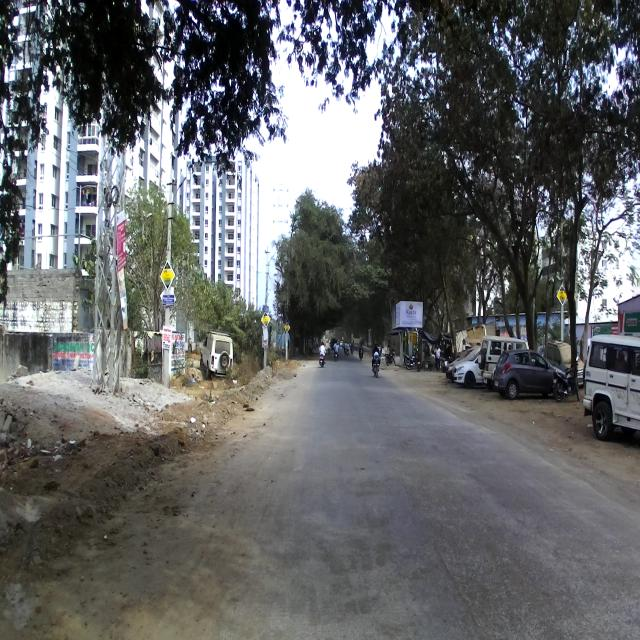car ahead at: (200, 332, 233, 377)
electric pole ahead at: (91, 119, 123, 397), (156, 113, 184, 402)
